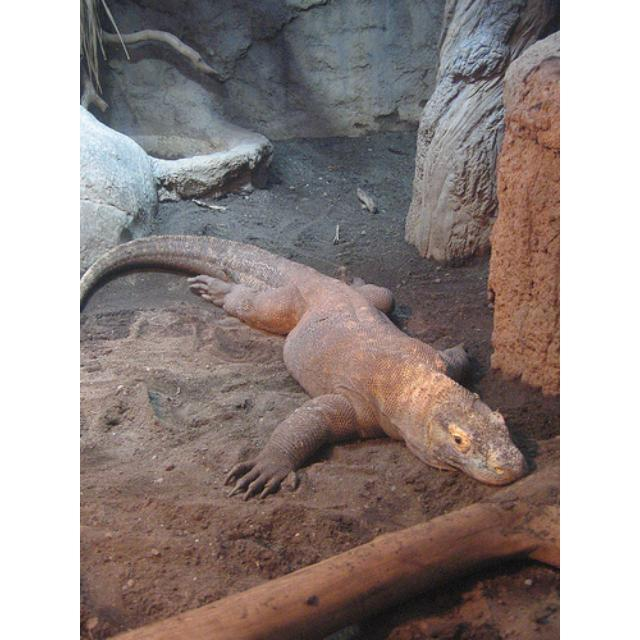KomodoDragon: (80, 231, 522, 495)
